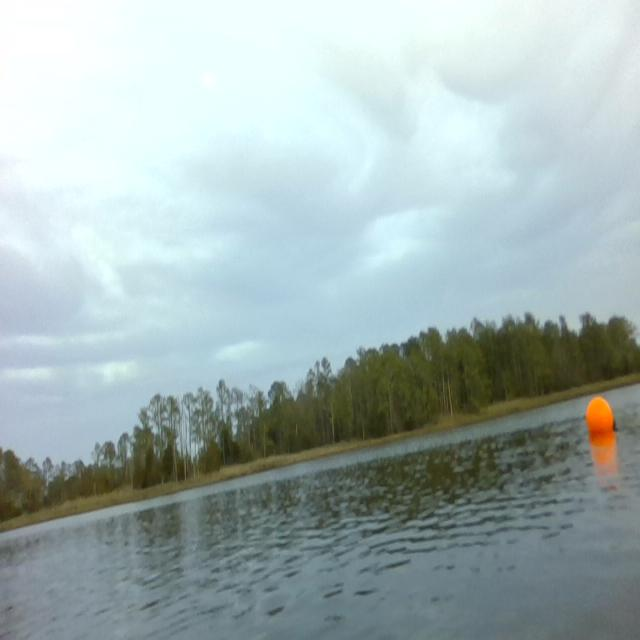Buoy: (583, 392, 620, 438)
